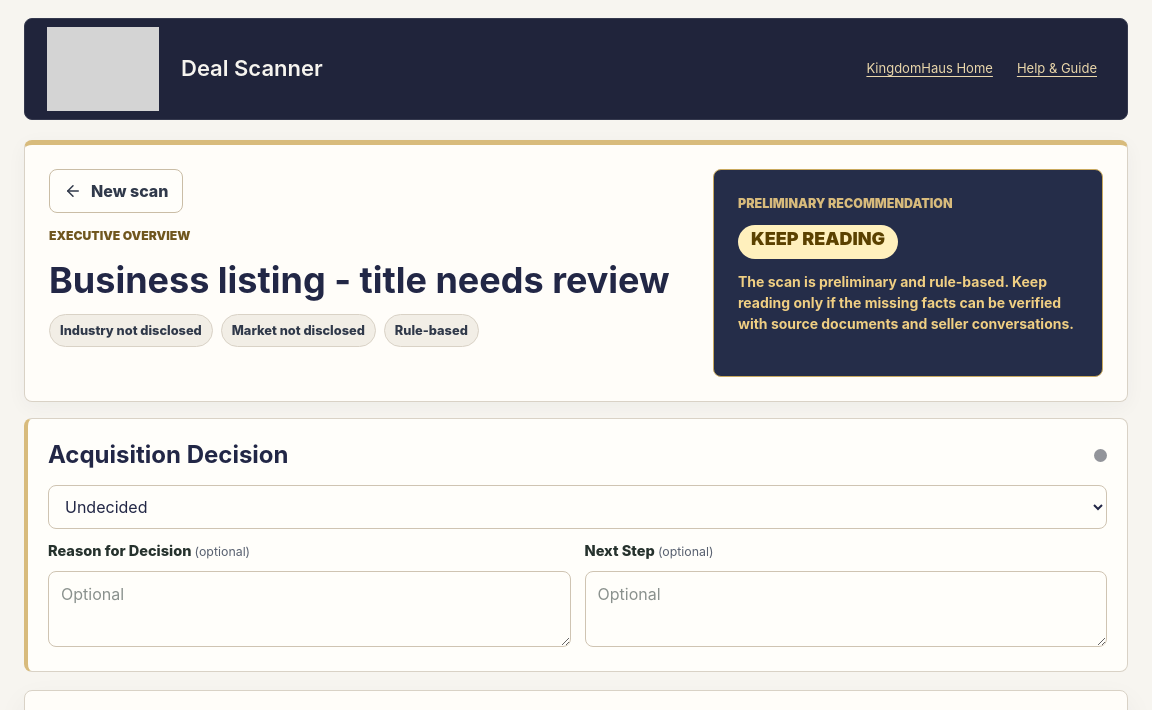
Founder Decision in synthetic acquisitions › shows an unset decision separately from the scanner recommendation and edits all three fields
This screenshot has width=1152, height=710.
Expected: the text "Preliminary recommendation" is shown, x1=738 y1=196 x2=953 y2=211
Expected: the heading "Acquisition Decision" is shown, x1=48 y1=437 x2=288 y2=473
Select "Hold" in the dropdown named "Decision": (578, 507) x1=48 y1=485 x2=1107 y2=529
In the text box labelled "Reason for Decision (optional)": (309, 609) x1=48 y1=571 x2=570 y2=647, type "Verify seller revenue first."
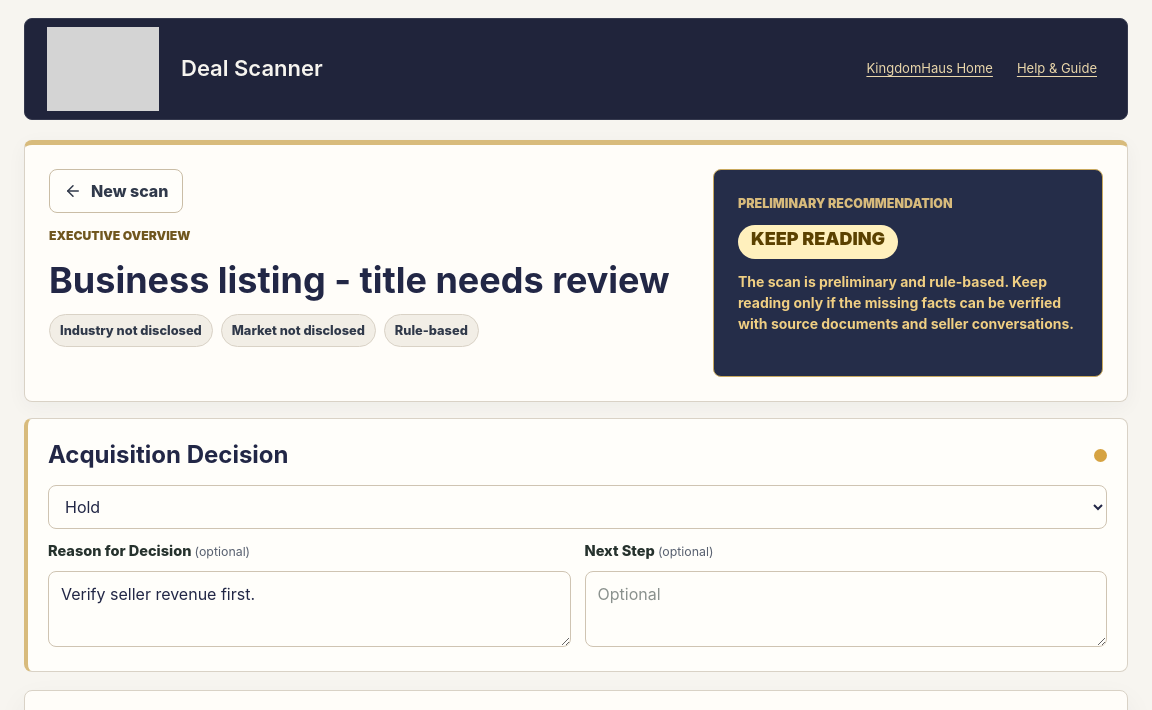
In the text box labelled "Next Step (optional)": (846, 609) x1=584 y1=571 x2=1107 y2=647, type "Request tax returns."
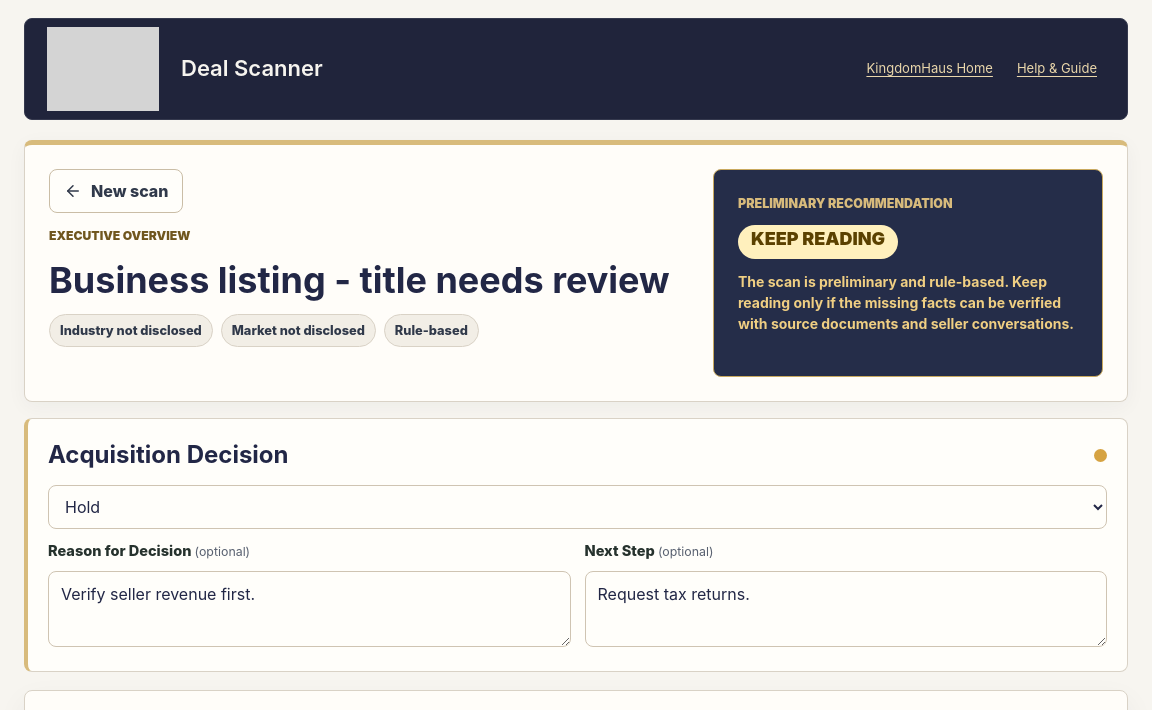
Expected: the picture named "Acquisition decision: Hold" has attribute data-decision="Hold", x1=1094 y1=449 x2=1107 y2=462
Select "Pursue" in the dropdown named "Decision": (578, 507) x1=48 y1=485 x2=1107 y2=529
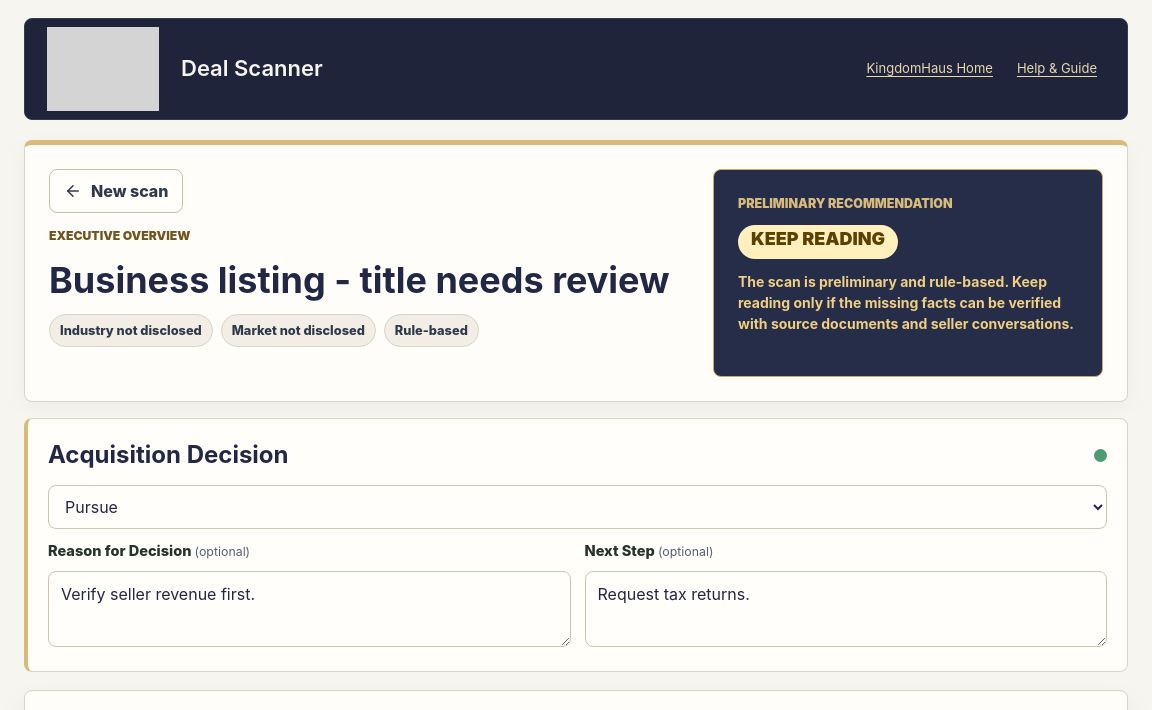
Select "Pass" in the dropdown named "Decision": (578, 507) x1=48 y1=485 x2=1107 y2=529
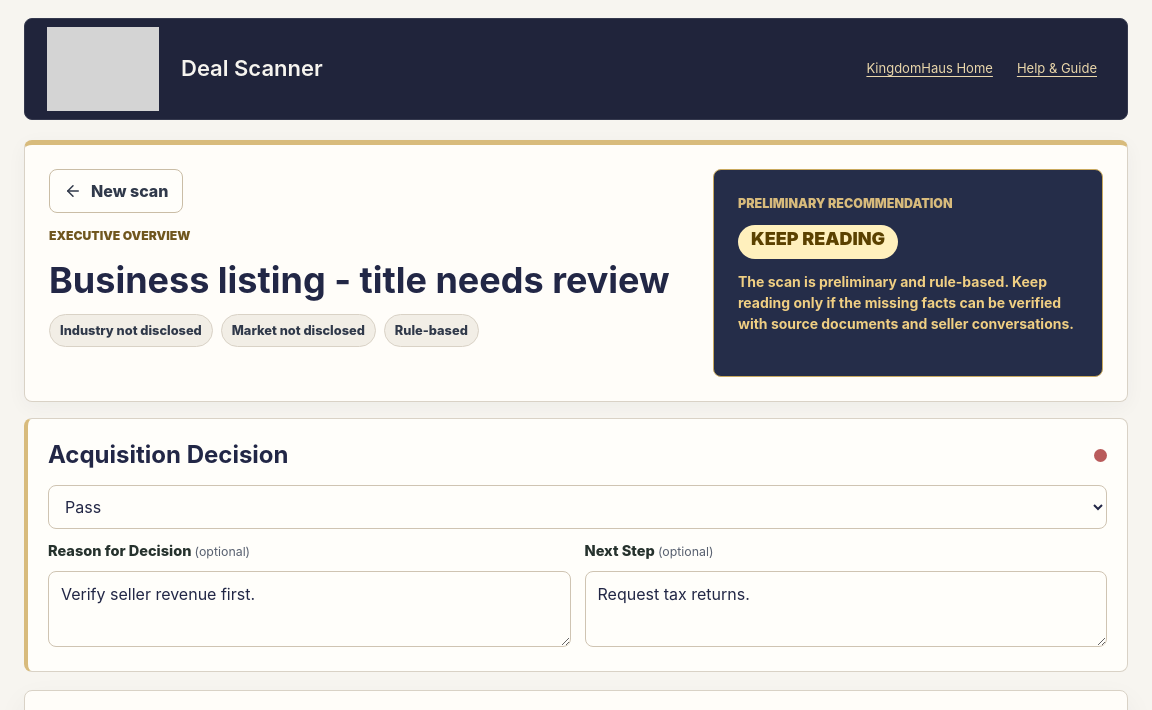
Select "Reviewing" in the dropdown named "Decision": (578, 507) x1=48 y1=485 x2=1107 y2=529
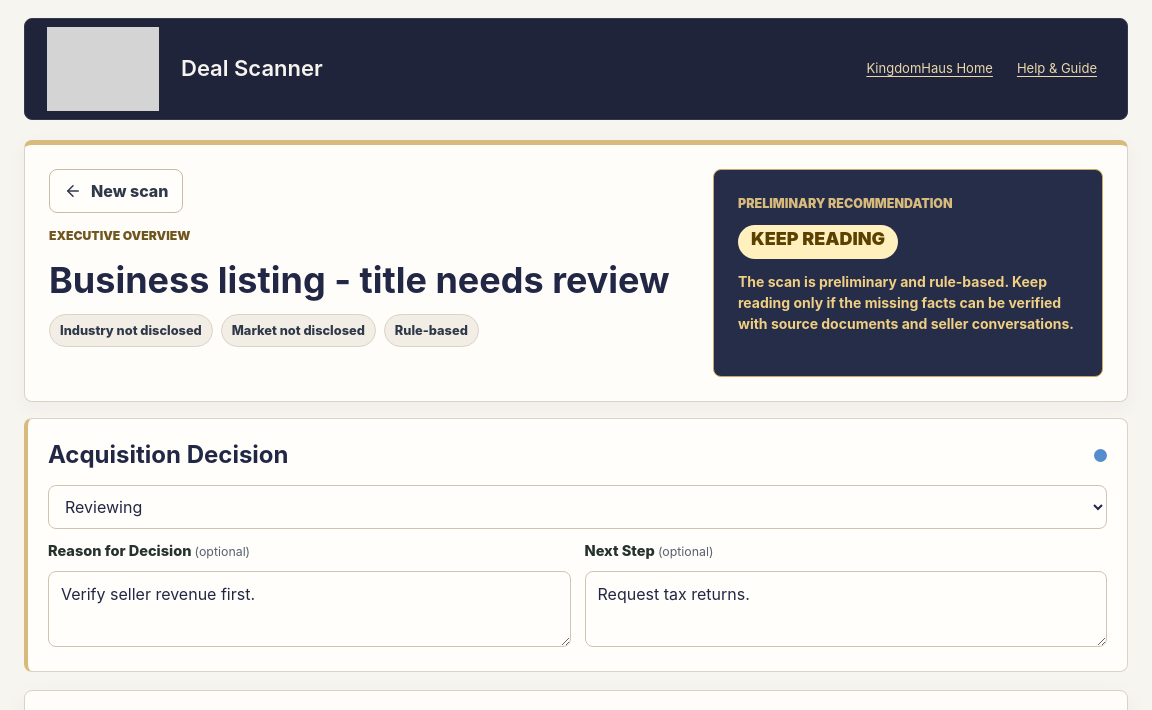
Select "Undecided" in the dropdown named "Decision": (578, 507) x1=48 y1=485 x2=1107 y2=529
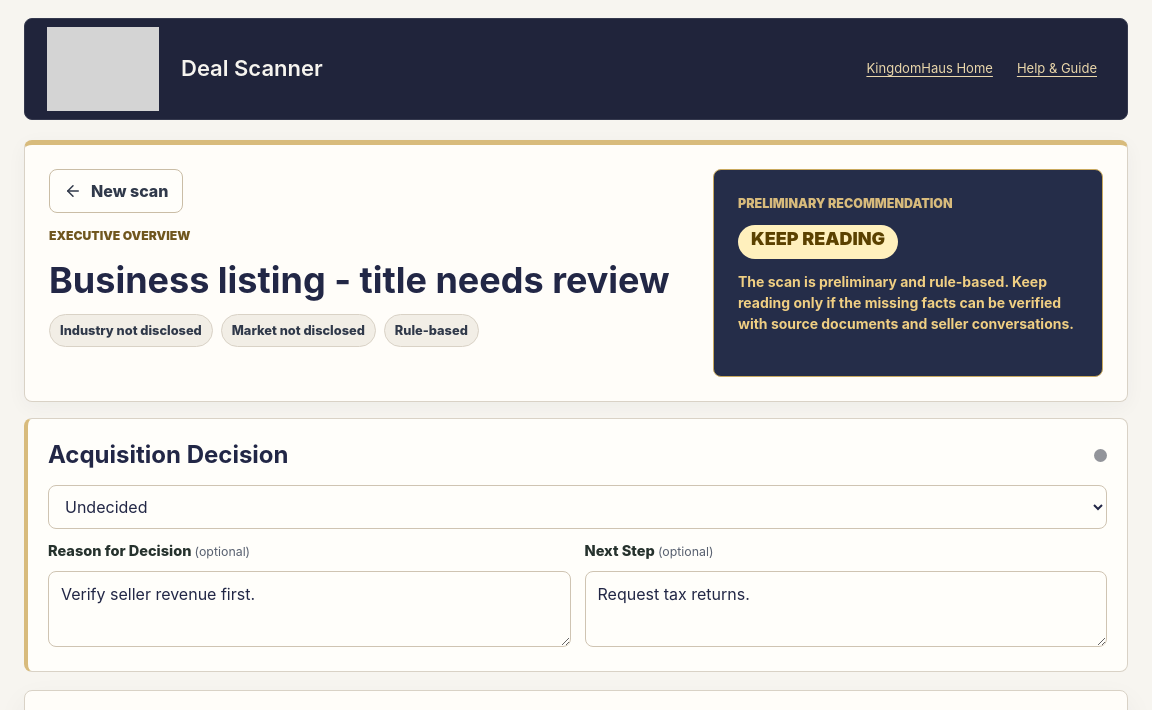
Expected: the picture named "Acquisition decision: Undecided" has attribute data-decision="Undecided", x1=1094 y1=449 x2=1107 y2=462
Expected: the picture named "Acquisition decision: Undecided" has attribute title="Undecided", x1=1094 y1=449 x2=1107 y2=462
